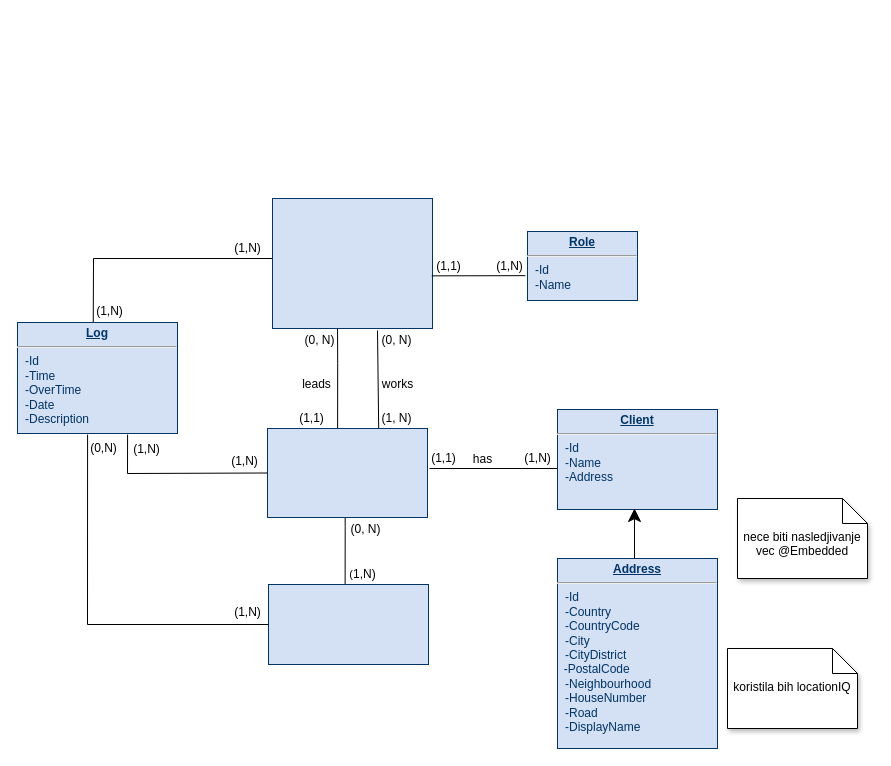
Image size: 891x766. Some labels were removed from this diagram. Each missing label, with the centre of its shape:
Category -Id -Name: [348,624]
Project -Id -Name -Description: [347,473]
User -Id -Name -Surname -Username -Email -Password: [352,263]
